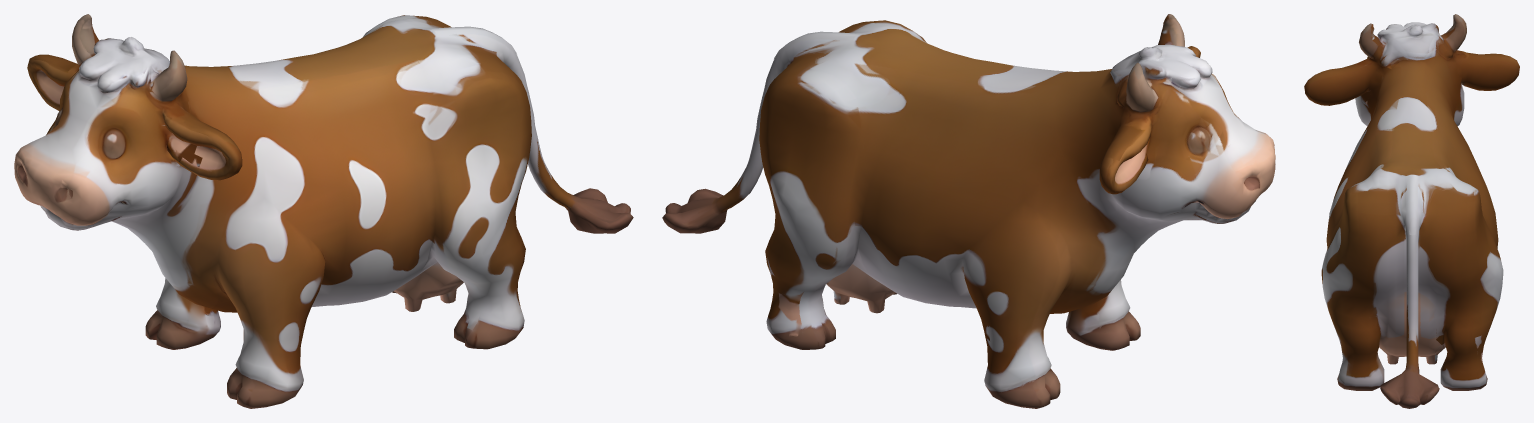
The model's file is vaca.fbx.
3 views of the same model, side by side, from view 1: azimuth 30°, elevation 25°; view 2: azimuth 150°, elevation 25°; view 3: azimuth 270°, elevation 25° (orthographic). The views are drawn at different scales.
Parts seen in each view (by area): view 1: mesh_rep_0_ori_repair_quad; view 2: mesh_rep_0_ori_repair_quad; view 3: mesh_rep_0_ori_repair_quad.
Part boxes in pixels (x1,y1,x2,y2): mesh_rep_0_ori_repair_quad: (14, 14, 633, 408); mesh_rep_0_ori_repair_quad: (662, 14, 1275, 408); mesh_rep_0_ori_repair_quad: (1304, 14, 1519, 408).
Size of the model in its own units: 113 by 63.49 by 48.72.
1 material, 1 textured.
